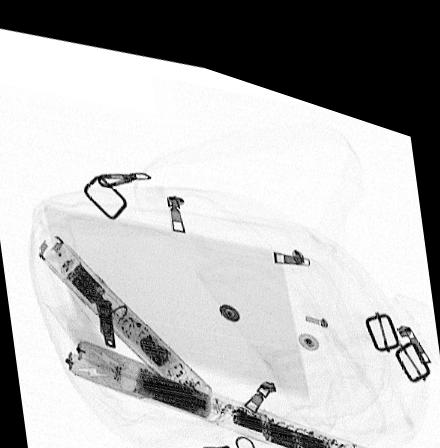Baton: (65, 333, 375, 448), (37, 232, 213, 397)
